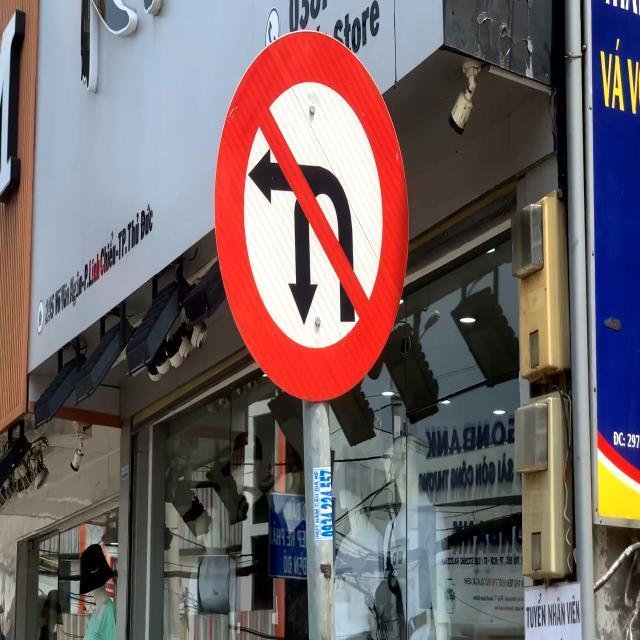124c-cam-re-trai-va-cam-quay-dau-xe: (214, 29, 410, 403)
